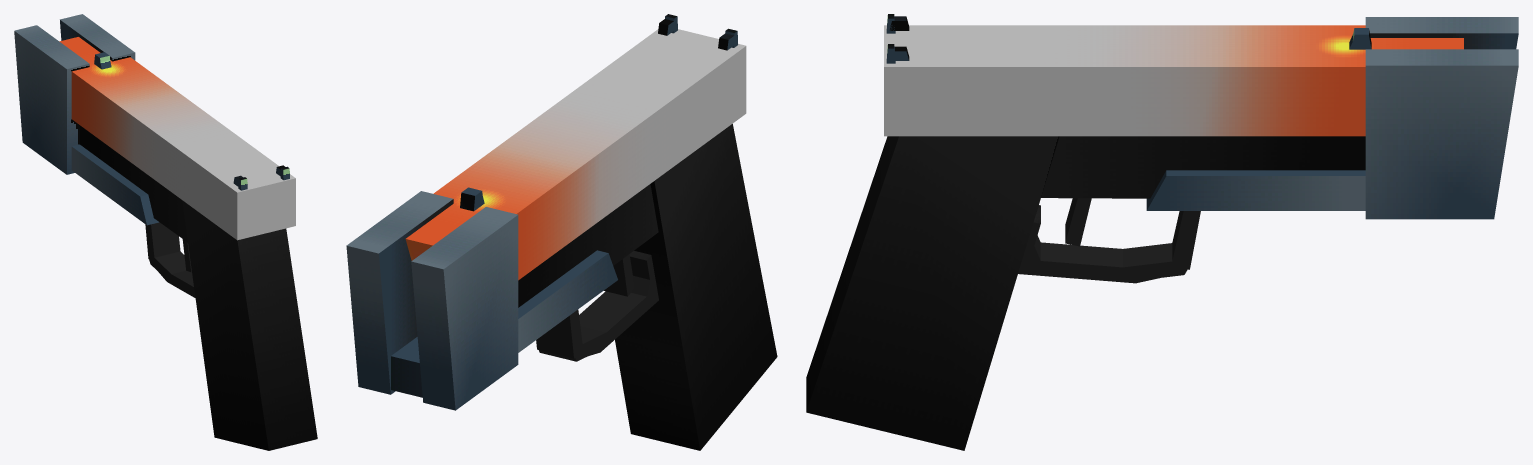
File: pistol.glb
3 views of the same model, side by side, from view 1: azimuth 30°, elevation 25°; view 2: azimuth 150°, elevation 25°; view 3: azimuth 270°, elevation 25° (orthographic). The views are drawn at different scales.
Parts seen in each view (by area): view 1: cuboid (×9); view 2: cuboid (×12); view 3: cuboid (×10).
Boxes of the visible parts, left/top/right/bottom form: cuboid (×9): left=14, top=14, right=317, bottom=450; cuboid (×12): left=346, top=29, right=777, bottom=450; cuboid (×10): left=806, top=17, right=1518, bottom=450.
Size of the model in its own units: 2.62 by 10.14 by 16.28.
1 material, 1 textured.
